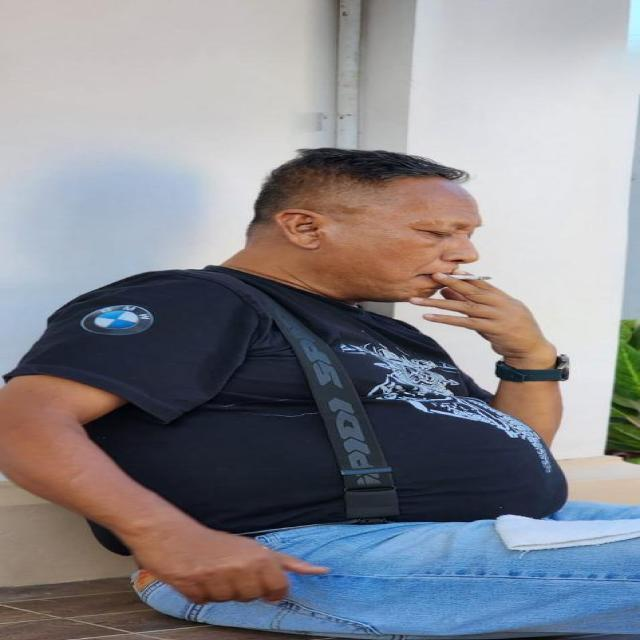rokok: (432, 262, 494, 288)
